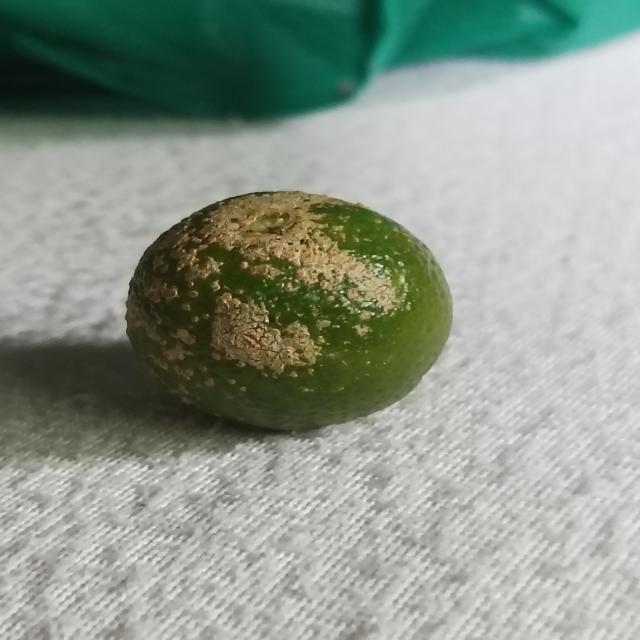scab: (122, 180, 464, 434)
